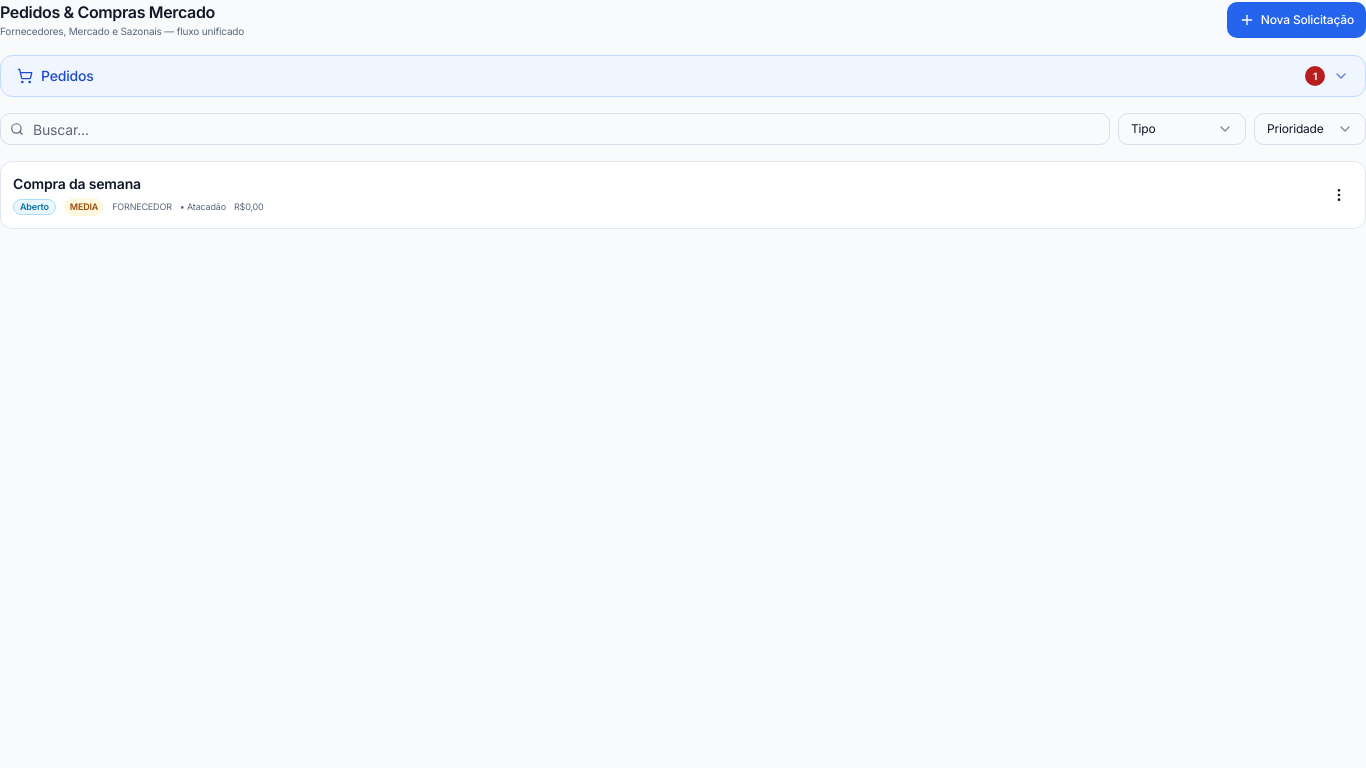
Test case: recebimento com entrada no estoque opcional › "Voltar" não registra o recebimento
The image size is (1366, 768).
Click the text "Compra da semana" at x=77, y=184, box [13,174,141,194]
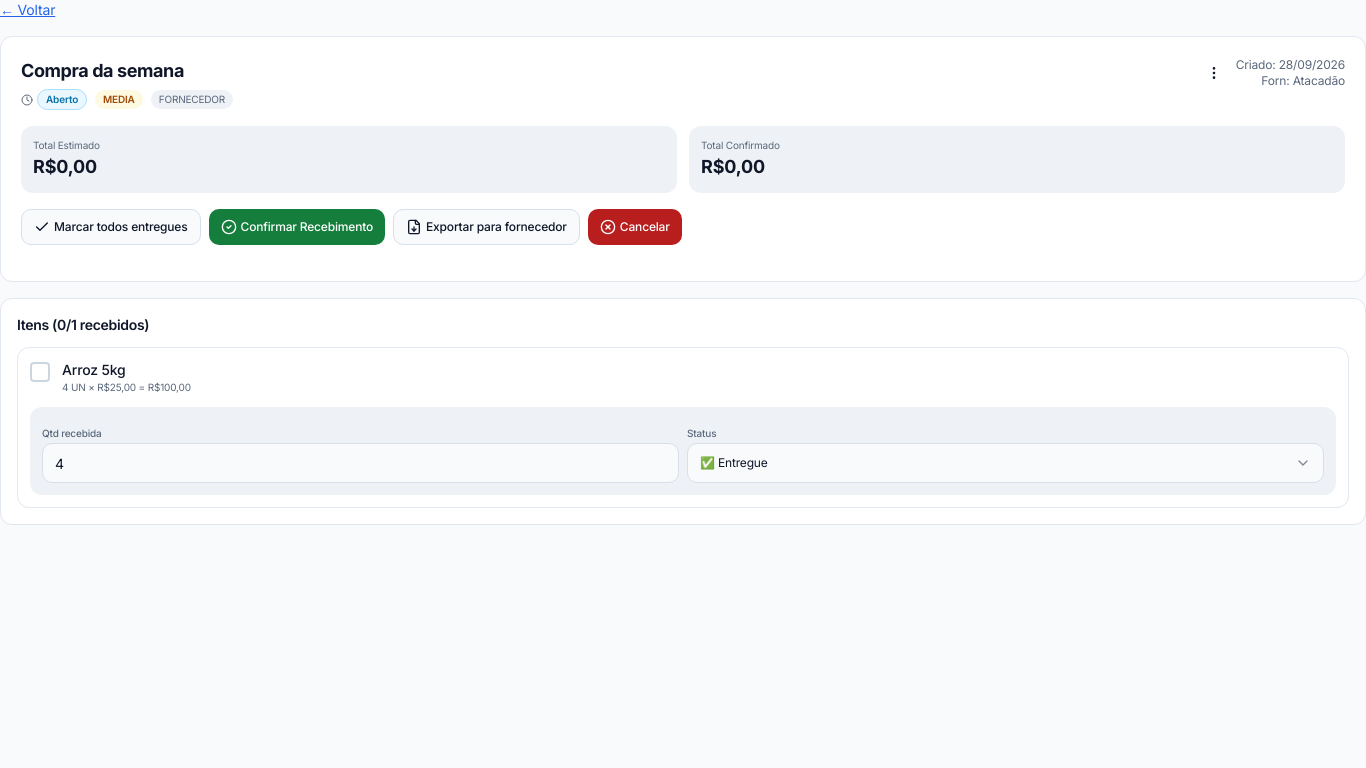
Expected: the button "Confirmar Recebimento" is shown
Click the button "Confirmar Recebimento" at x=297, y=227, box [208,209,385,245]
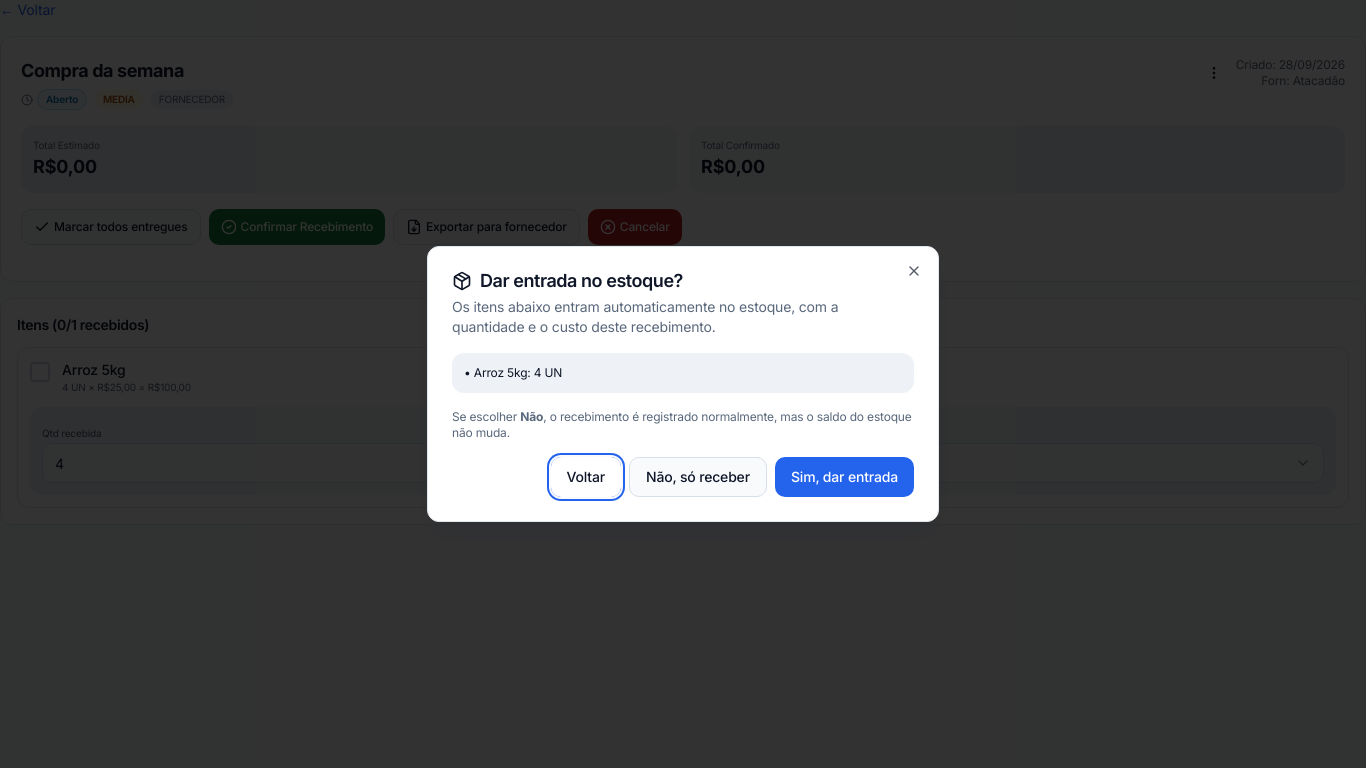
Click the button "Voltar" at x=586, y=477, box [550,457,621,497]
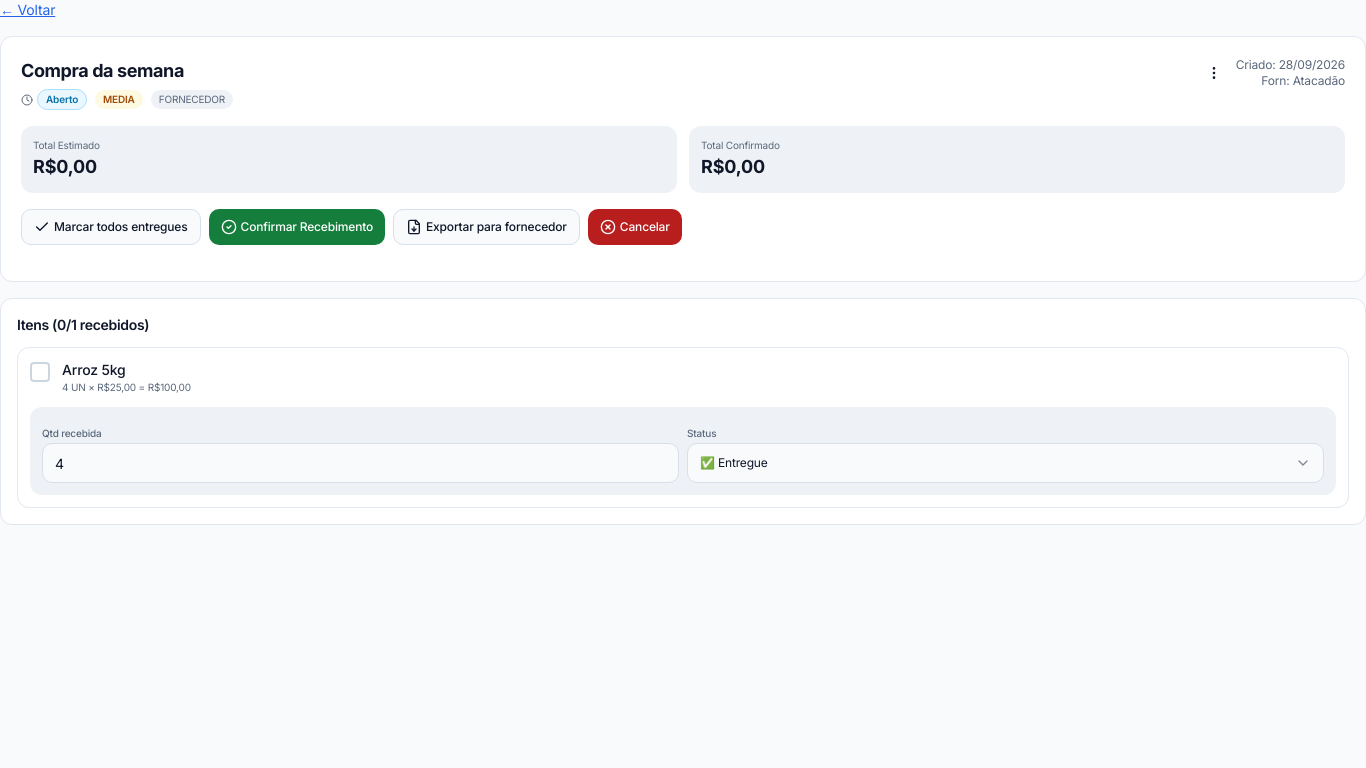
Expected: the heading "Dar entrada no estoque?" is gone
